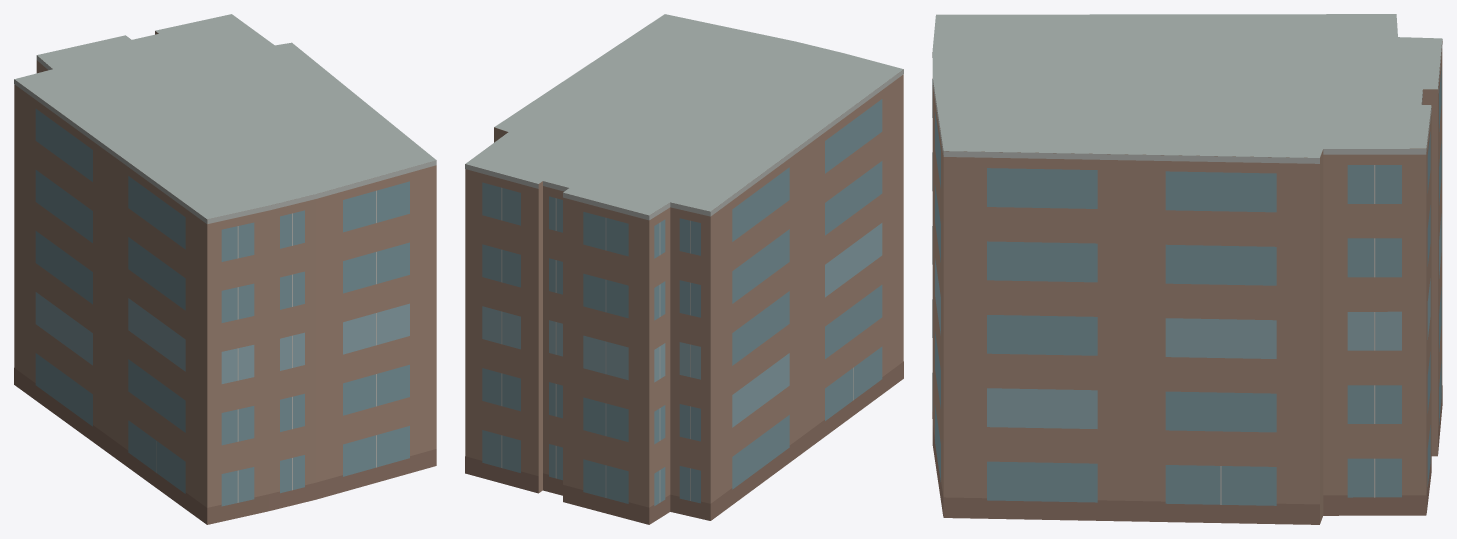
The model's file is survey-upis-32933791.glb.
3 renders of one model, left to right at view 1: azimuth 30°, elevation 25°; view 2: azimuth 150°, elevation 25°; view 3: azimuth 270°, elevation 25°, orthographic. The views are drawn at different scales.
Visible parts, largest first — view 1: survey-upis-32933791.tmp; view 2: survey-upis-32933791.tmp; view 3: survey-upis-32933791.tmp.
Part boxes in pixels (x1,y1,x2,y2): survey-upis-32933791.tmp: (14, 14, 436, 524); survey-upis-32933791.tmp: (465, 14, 903, 524); survey-upis-32933791.tmp: (932, 14, 1442, 524).
Bounding box in the file's own units: 12.81 × 15.2 × 19.15.
